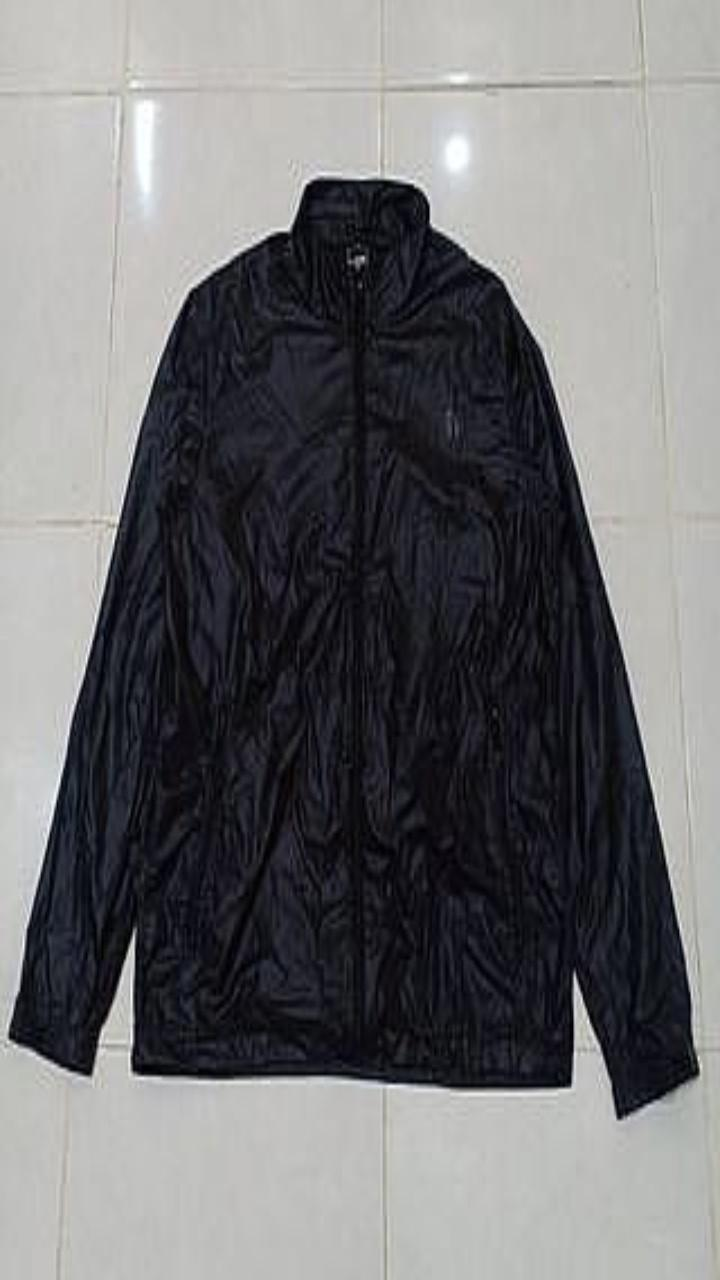Sports_Jacket: (9, 174, 699, 1117)
